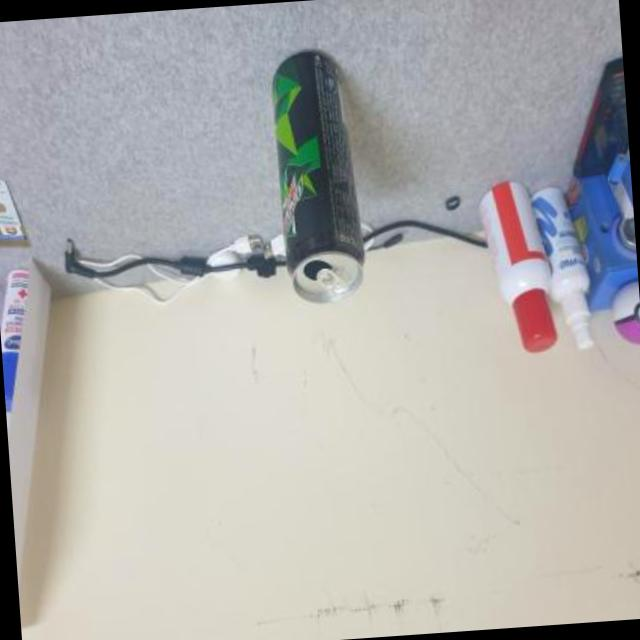metal: (275, 55, 365, 305)
